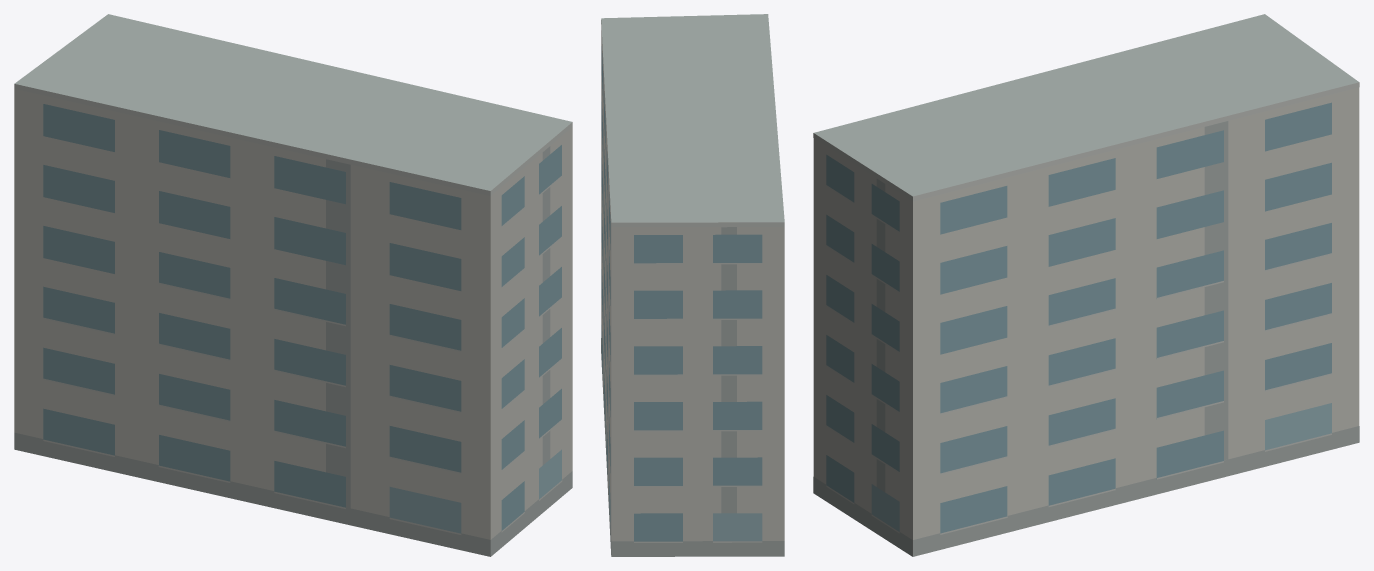
The model's file is survey-upis-32587237.glb.
3 views of the same model, side by side, from view 1: azimuth 30°, elevation 25°; view 2: azimuth 150°, elevation 25°; view 3: azimuth 270°, elevation 25° (orthographic). The views are drawn at different scales.
Visible parts, largest first — view 1: survey-upis-32587237.tmp; view 2: survey-upis-32587237.tmp; view 3: survey-upis-32587237.tmp.
Part boxes in pixels (<box>): survey-upis-32587237.tmp: <box>14,14,572,556</box>; survey-upis-32587237.tmp: <box>601,14,784,556</box>; survey-upis-32587237.tmp: <box>813,14,1359,556</box>.
Size of the model in its own units: 18.8 by 17.3 by 23.76.
